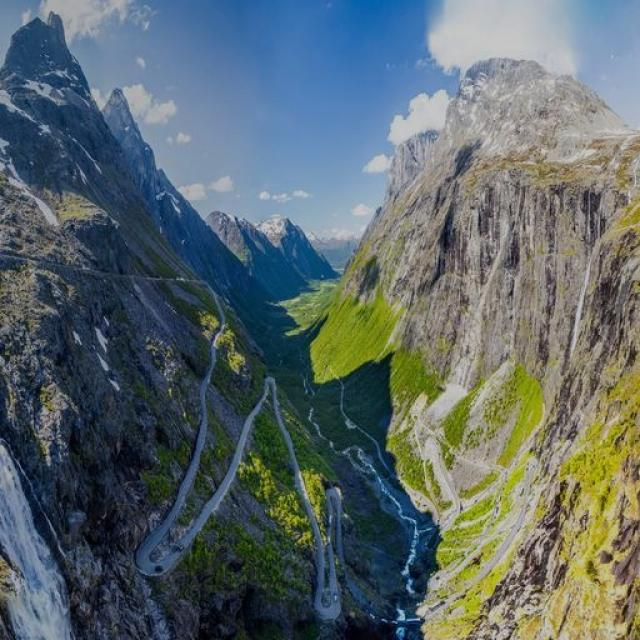watermark: (107, 208, 472, 480)
